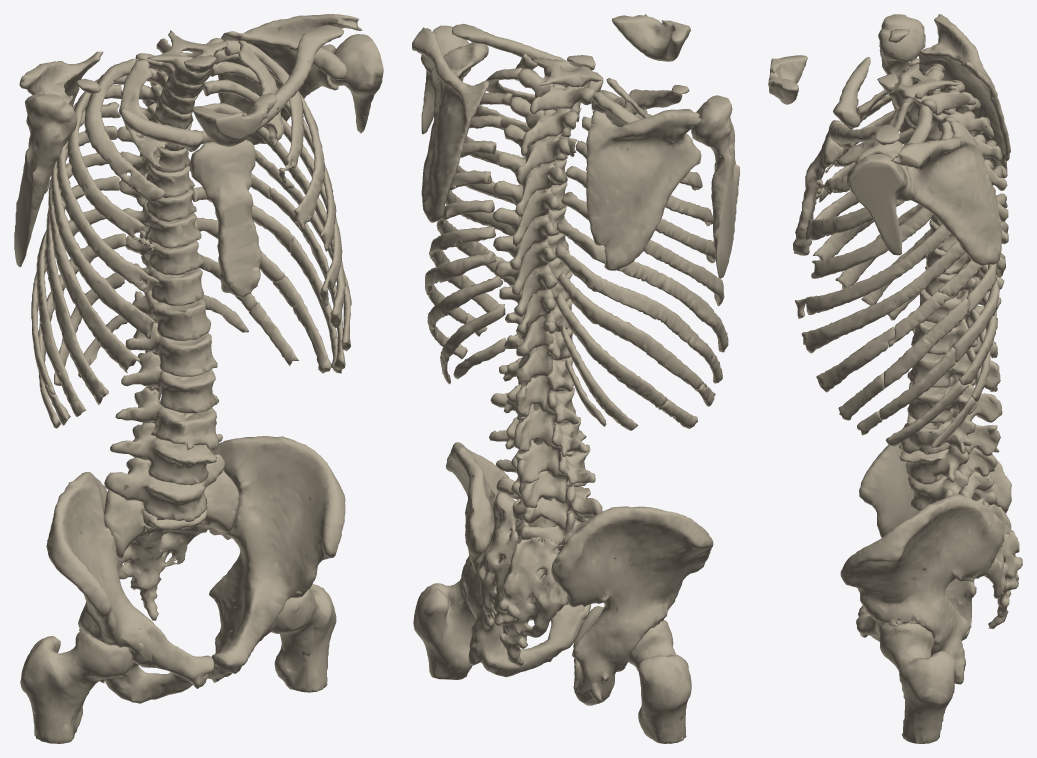
Rendered from tsd_s0327_older_adult_male.skeletal.LOD2.glb.
3 renders of one model, left to right at view 1: azimuth 30°, elevation 25°; view 2: azimuth 150°, elevation 25°; view 3: azimuth 270°, elevation 25°, orthographic. The views are drawn at different scales.
Visible parts, largest first — view 1: TSD_S0327.OLDER_ADULT.MALE.SKELETAL.HIP_BONE_OS_COXAE.L, TSD_S0327.OLDER_ADULT.MALE.SKELETAL.HIP_BONE_OS_COXAE.R, TSD_S0327.OLDER_ADULT.MALE.SKELETAL.FEMUR.R, TSD_S0327.OLDER_ADULT.MALE.SKELETAL.SACRUM, TSD_S0327.OLDER_ADULT.MALE.SKELETAL.STERNUM, TSD_S0327.OLDER_ADULT.MALE.SKELETAL.SCAPULA.L, TSD_S0327.OLDER_ADULT.MALE.SKELETAL.HUMERUS.R, TSD_S0327.OLDER_ADULT.MALE.SKELETAL.FEMUR.L, TSD_S0327.OLDER_ADULT.MALE.SKELETAL.VERTEBRA_L5, TSD_S0327.OLDER_ADULT.MALE.SKELETAL.VERTEBRA_L4, TSD_S0327.OLDER_ADULT.MALE.SKELETAL.VERTEBRA_L3, TSD_S0327.OLDER_ADULT.MALE.SKELETAL.RIB_5.R (+41 smaller); view 2: TSD_S0327.OLDER_ADULT.MALE.SKELETAL.HIP_BONE_OS_COXAE.R, TSD_S0327.OLDER_ADULT.MALE.SKELETAL.SCAPULA.R, TSD_S0327.OLDER_ADULT.MALE.SKELETAL.SACRUM, TSD_S0327.OLDER_ADULT.MALE.SKELETAL.HIP_BONE_OS_COXAE.L, TSD_S0327.OLDER_ADULT.MALE.SKELETAL.SCAPULA.L, TSD_S0327.OLDER_ADULT.MALE.SKELETAL.FEMUR.R, TSD_S0327.OLDER_ADULT.MALE.SKELETAL.FEMUR.L, TSD_S0327.OLDER_ADULT.MALE.SKELETAL.HUMERUS.R, TSD_S0327.OLDER_ADULT.MALE.SKELETAL.RIB_8.R, TSD_S0327.OLDER_ADULT.MALE.SKELETAL.VERTEBRA_L3, TSD_S0327.OLDER_ADULT.MALE.SKELETAL.RIB_7.R, TSD_S0327.OLDER_ADULT.MALE.SKELETAL.RIB_9.R (+39 smaller); view 3: TSD_S0327.OLDER_ADULT.MALE.SKELETAL.HIP_BONE_OS_COXAE.L, TSD_S0327.OLDER_ADULT.MALE.SKELETAL.SCAPULA.L, TSD_S0327.OLDER_ADULT.MALE.SKELETAL.FEMUR.L, TSD_S0327.OLDER_ADULT.MALE.SKELETAL.HIP_BONE_OS_COXAE.R, TSD_S0327.OLDER_ADULT.MALE.SKELETAL.SCAPULA.R, TSD_S0327.OLDER_ADULT.MALE.SKELETAL.HUMERUS.L, TSD_S0327.OLDER_ADULT.MALE.SKELETAL.RIB_9.L, TSD_S0327.OLDER_ADULT.MALE.SKELETAL.RIB_6.L, TSD_S0327.OLDER_ADULT.MALE.SKELETAL.RIB_5.L, TSD_S0327.OLDER_ADULT.MALE.SKELETAL.VERTEBRA_L3, TSD_S0327.OLDER_ADULT.MALE.SKELETAL.VERTEBRA_L4, TSD_S0327.OLDER_ADULT.MALE.SKELETAL.RIB_8.L (+30 smaller).
Boxes of the visible parts, bbox=[...] form: TSD_S0327.OLDER_ADULT.MALE.SKELETAL.HIP_BONE_OS_COXAE.L: bbox=[208, 436, 345, 682]; TSD_S0327.OLDER_ADULT.MALE.SKELETAL.HIP_BONE_OS_COXAE.R: bbox=[46, 472, 214, 703]; TSD_S0327.OLDER_ADULT.MALE.SKELETAL.FEMUR.R: bbox=[20, 631, 133, 743]; TSD_S0327.OLDER_ADULT.MALE.SKELETAL.SACRUM: bbox=[104, 470, 239, 620]; TSD_S0327.OLDER_ADULT.MALE.SKELETAL.STERNUM: bbox=[190, 140, 261, 297]; TSD_S0327.OLDER_ADULT.MALE.SKELETAL.SCAPULA.L: bbox=[218, 14, 362, 144]; TSD_S0327.OLDER_ADULT.MALE.SKELETAL.HUMERUS.R: bbox=[14, 94, 77, 267]; TSD_S0327.OLDER_ADULT.MALE.SKELETAL.FEMUR.L: bbox=[271, 584, 336, 692]; TSD_S0327.OLDER_ADULT.MALE.SKELETAL.VERTEBRA_L5: bbox=[104, 454, 224, 521]; TSD_S0327.OLDER_ADULT.MALE.SKELETAL.VERTEBRA_L4: bbox=[110, 422, 222, 485]; TSD_S0327.OLDER_ADULT.MALE.SKELETAL.VERTEBRA_L3: bbox=[115, 387, 218, 450]; TSD_S0327.OLDER_ADULT.MALE.SKELETAL.RIB_5.R: bbox=[50, 102, 155, 338]; TSD_S0327.OLDER_ADULT.MALE.SKELETAL.HIP_BONE_OS_COXAE.R: bbox=[551, 506, 713, 705]; TSD_S0327.OLDER_ADULT.MALE.SKELETAL.SCAPULA.R: bbox=[586, 109, 701, 270]; TSD_S0327.OLDER_ADULT.MALE.SKELETAL.SACRUM: bbox=[478, 492, 593, 666]; TSD_S0327.OLDER_ADULT.MALE.SKELETAL.HIP_BONE_OS_COXAE.L: bbox=[446, 442, 591, 677]; TSD_S0327.OLDER_ADULT.MALE.SKELETAL.SCAPULA.L: bbox=[412, 27, 488, 222]; TSD_S0327.OLDER_ADULT.MALE.SKELETAL.FEMUR.R: bbox=[628, 620, 691, 743]; TSD_S0327.OLDER_ADULT.MALE.SKELETAL.FEMUR.L: bbox=[413, 564, 476, 679]; TSD_S0327.OLDER_ADULT.MALE.SKELETAL.HUMERUS.R: bbox=[691, 95, 739, 278]; TSD_S0327.OLDER_ADULT.MALE.SKELETAL.RIB_8.R: bbox=[555, 244, 722, 383]; TSD_S0327.OLDER_ADULT.MALE.SKELETAL.VERTEBRA_L3: bbox=[489, 417, 588, 488]; TSD_S0327.OLDER_ADULT.MALE.SKELETAL.RIB_7.R: bbox=[556, 218, 728, 352]; TSD_S0327.OLDER_ADULT.MALE.SKELETAL.RIB_9.R: bbox=[557, 272, 706, 390]; TSD_S0327.OLDER_ADULT.MALE.SKELETAL.HIP_BONE_OS_COXAE.L: bbox=[840, 494, 1004, 684]; TSD_S0327.OLDER_ADULT.MALE.SKELETAL.SCAPULA.L: bbox=[855, 120, 1001, 265]; TSD_S0327.OLDER_ADULT.MALE.SKELETAL.FEMUR.L: bbox=[879, 623, 955, 743]; TSD_S0327.OLDER_ADULT.MALE.SKELETAL.HIP_BONE_OS_COXAE.R: bbox=[858, 442, 1011, 640]; TSD_S0327.OLDER_ADULT.MALE.SKELETAL.SCAPULA.R: bbox=[918, 14, 1010, 178]; TSD_S0327.OLDER_ADULT.MALE.SKELETAL.HUMERUS.L: bbox=[846, 154, 906, 255]; TSD_S0327.OLDER_ADULT.MALE.SKELETAL.RIB_9.L: bbox=[857, 264, 999, 435]; TSD_S0327.OLDER_ADULT.MALE.SKELETAL.RIB_6.L: bbox=[801, 241, 965, 353]; TSD_S0327.OLDER_ADULT.MALE.SKELETAL.RIB_5.L: bbox=[795, 223, 951, 318]; TSD_S0327.OLDER_ADULT.MALE.SKELETAL.VERTEBRA_L3: bbox=[901, 409, 1000, 456]; TSD_S0327.OLDER_ADULT.MALE.SKELETAL.VERTEBRA_L4: bbox=[899, 442, 997, 484]; TSD_S0327.OLDER_ADULT.MALE.SKELETAL.RIB_8.L: bbox=[838, 262, 997, 420].
Bounding box in the file's own units: 0.3354 × 0.6438 × 0.2462.
